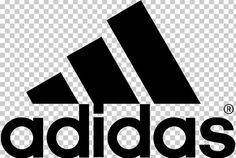adidas Originale: (1, 1, 236, 158)
